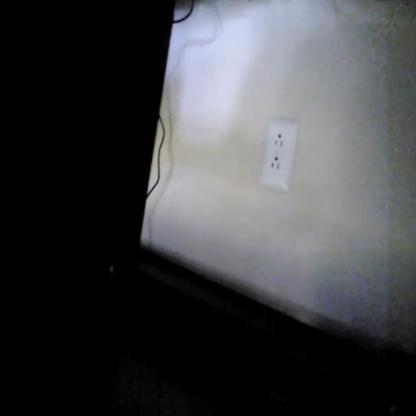OUTLET: (260, 121, 295, 191)
